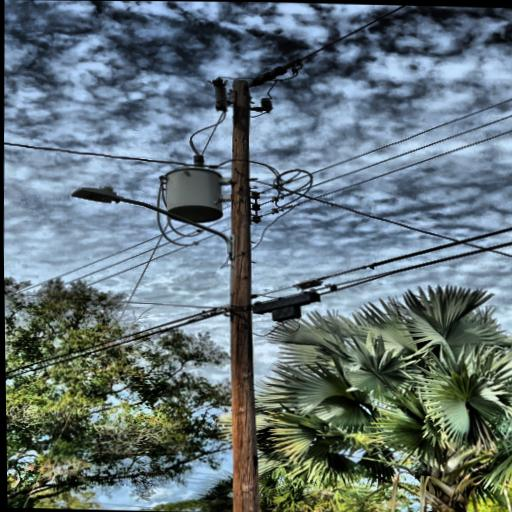pole: (216, 73, 275, 512)
street light: (68, 183, 239, 262)
transformer: (159, 164, 226, 223)
